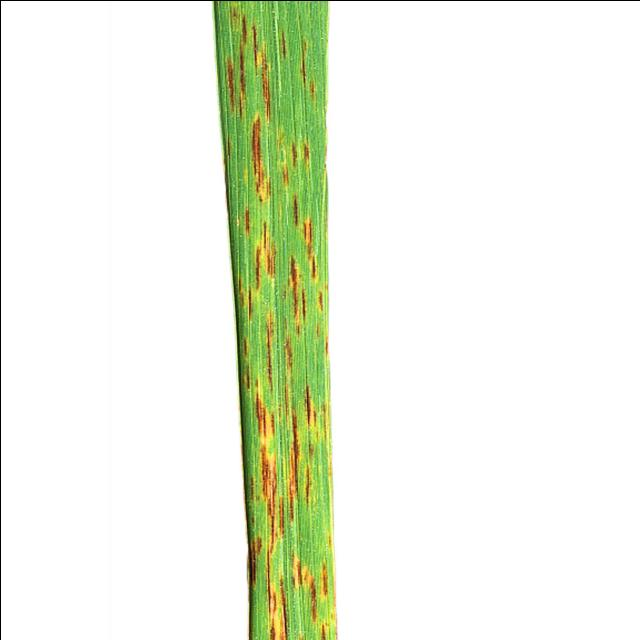Narrow brown: (200, 0, 390, 640)
